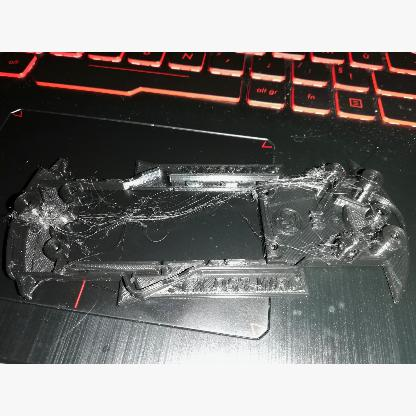fail: (79, 192, 247, 242), (26, 201, 62, 225), (298, 240, 342, 258)
